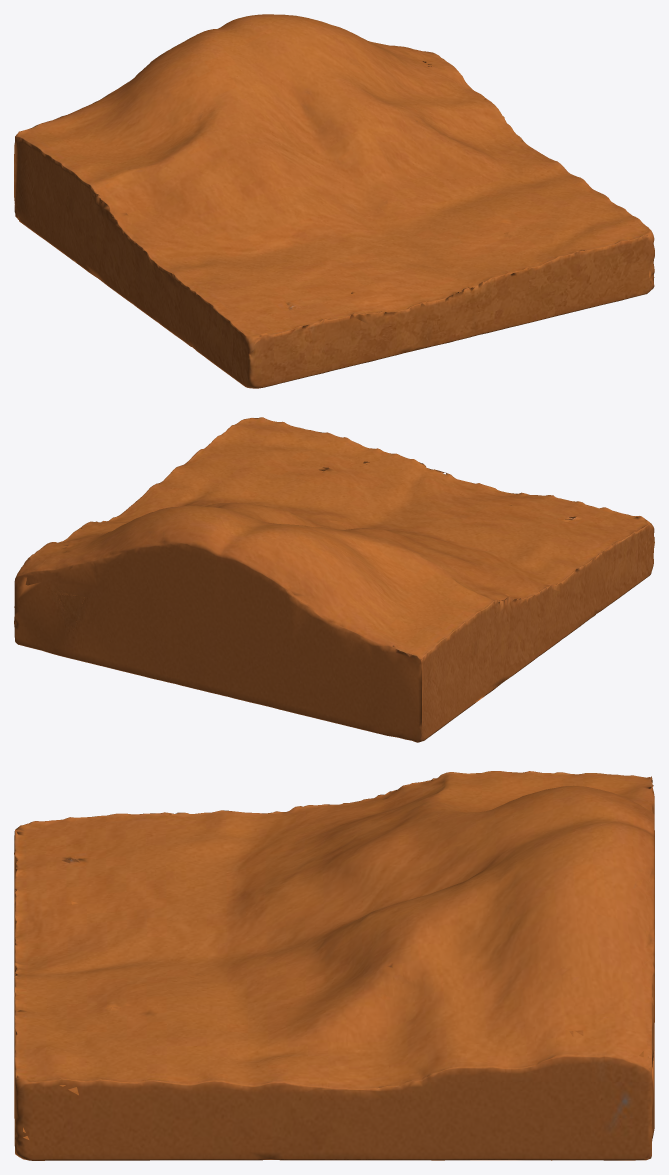
Rendered from terrain-soil-block.glb.
3 views of the same model, one above another, from view 1: azimuth 30°, elevation 25°; view 2: azimuth 150°, elevation 25°; view 3: azimuth 270°, elevation 25° (orthographic). The views are drawn at different scales.
Bounding box in the file's own units: 0.9546 × 0.3511 × 0.9556.
Materials: 1 (1 with a texture image).
